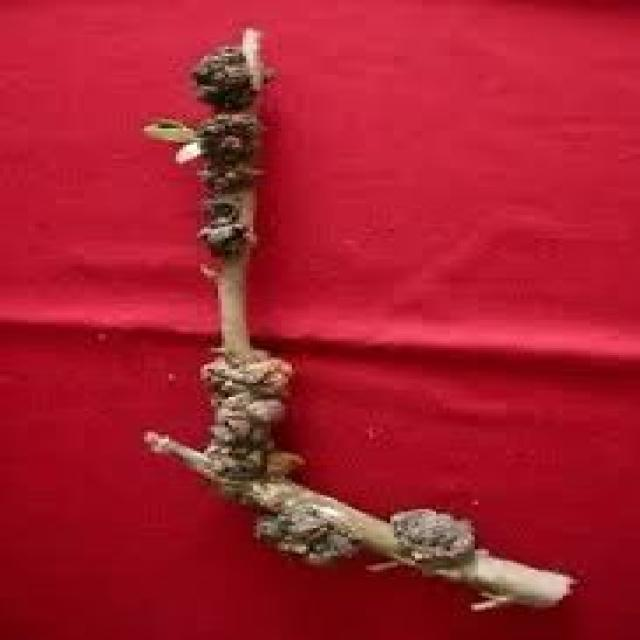Tuberculosis: (176, 28, 475, 572)
